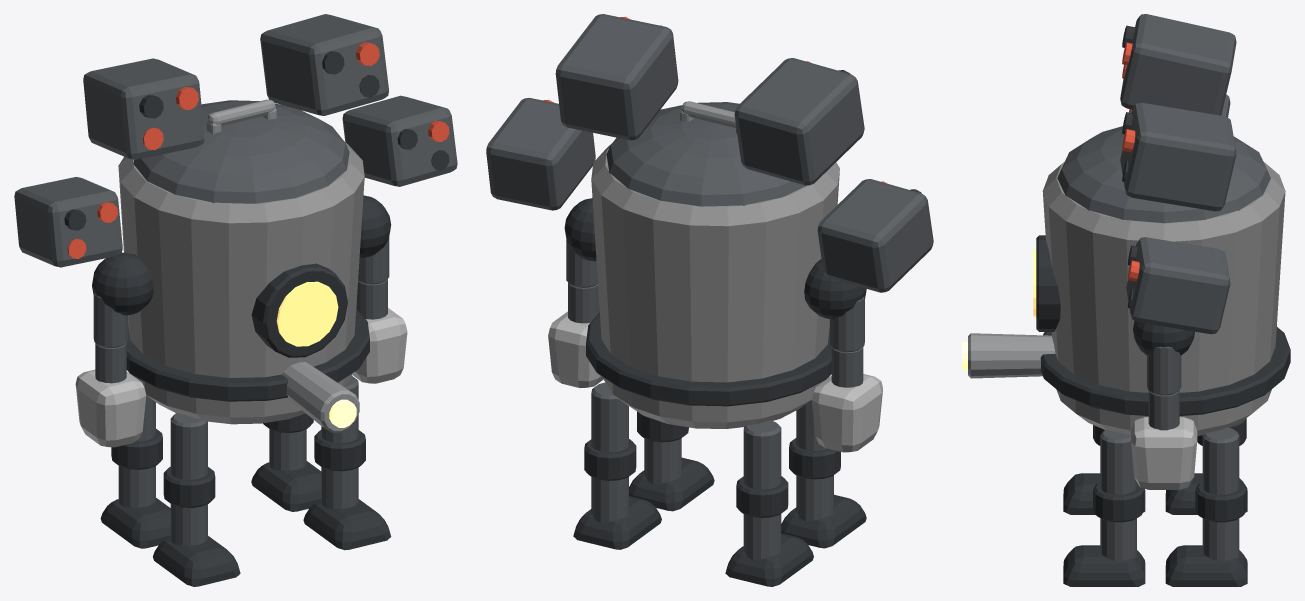
File: artilheiro.glb
3 renders of one model, left to right at view 1: azimuth 30°, elevation 25°; view 2: azimuth 150°, elevation 25°; view 3: azimuth 270°, elevation 25°, orthographic. The views are drawn at different scales.
Parts seen in each view (by area): view 1: p_17, p_22, arma_misseis_44, arma_misseis_34, arma_misseis_49, arma_misseis_39, p_18, p_33, p_20, p_21, p_30, p_4 (+22 smaller); view 2: p_17, arma_misseis_34, arma_misseis_44, p_22, arma_misseis_39, arma_misseis_49, p_18, p_33, p_28, p_16, p_12, p_13 (+19 smaller); view 3: p_17, arma_misseis_44, arma_misseis_34, p_22, arma_misseis_49, p_18, p_28, p_54, p_4, p_12, p_9, p_1 (+10 smaller).
Part boxes in pixels (box(x1,y1,x2,y2)): p_17: box(118, 141, 364, 424); p_22: box(133, 100, 349, 203); arma_misseis_44: box(260, 14, 388, 115); arma_misseis_34: box(83, 58, 204, 159); arma_misseis_49: box(342, 95, 457, 186); arma_misseis_39: box(14, 177, 122, 267); p_18: box(126, 309, 369, 401); p_33: box(75, 369, 146, 447); p_20: box(251, 263, 347, 357); p_21: box(276, 281, 338, 346); p_30: box(92, 252, 153, 315); p_4: box(303, 499, 391, 550); p_17: box(591, 143, 839, 428); arma_misseis_34: box(734, 58, 864, 185); arma_misseis_44: box(555, 14, 678, 140); p_22: box(606, 102, 806, 206); arma_misseis_39: box(817, 179, 933, 292); arma_misseis_49: box(486, 97, 595, 210); p_18: box(586, 313, 831, 406); p_33: box(811, 374, 882, 452); p_28: box(548, 311, 603, 388); p_16: box(725, 533, 813, 586); p_12: box(573, 496, 661, 549); p_13: box(743, 420, 781, 489); p_17: box(1042, 161, 1285, 436); arma_misseis_44: box(1120, 102, 1236, 211); arma_misseis_34: box(1120, 14, 1236, 115); p_22: box(1057, 126, 1270, 223); arma_misseis_49: box(1126, 237, 1230, 334); p_18: box(1040, 327, 1290, 415); p_28: box(1131, 417, 1197, 489); p_54: box(968, 333, 1055, 378); p_4: box(1063, 545, 1145, 586); p_12: box(1165, 545, 1247, 586); p_9: box(1202, 427, 1239, 494); p_1: box(1100, 429, 1136, 494).
Bounding box in the file's own units: 2.82 × 3.18 × 2.02.
